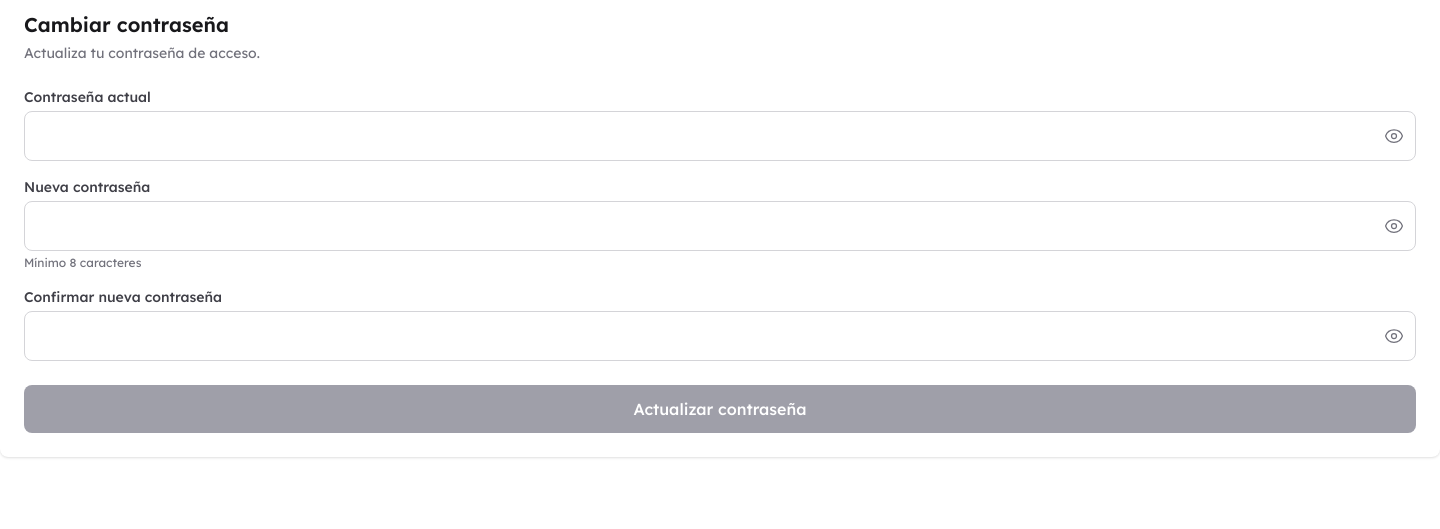
Test: SecurityPage › shows error when newPassword !== confirmPassword
In the password field labelled "Contraseña actual": (720, 136) [24, 111, 1416, 161], type "oldpass123"
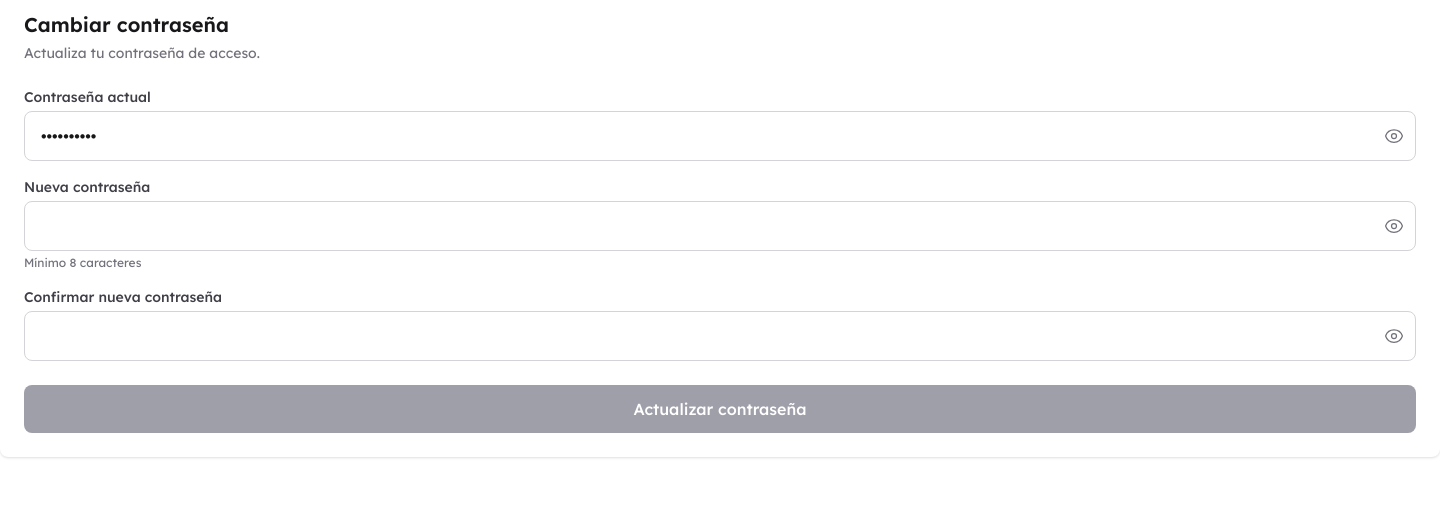
In the password field labelled "Nueva contraseña": (720, 226) [24, 201, 1416, 251], type "newpass123"
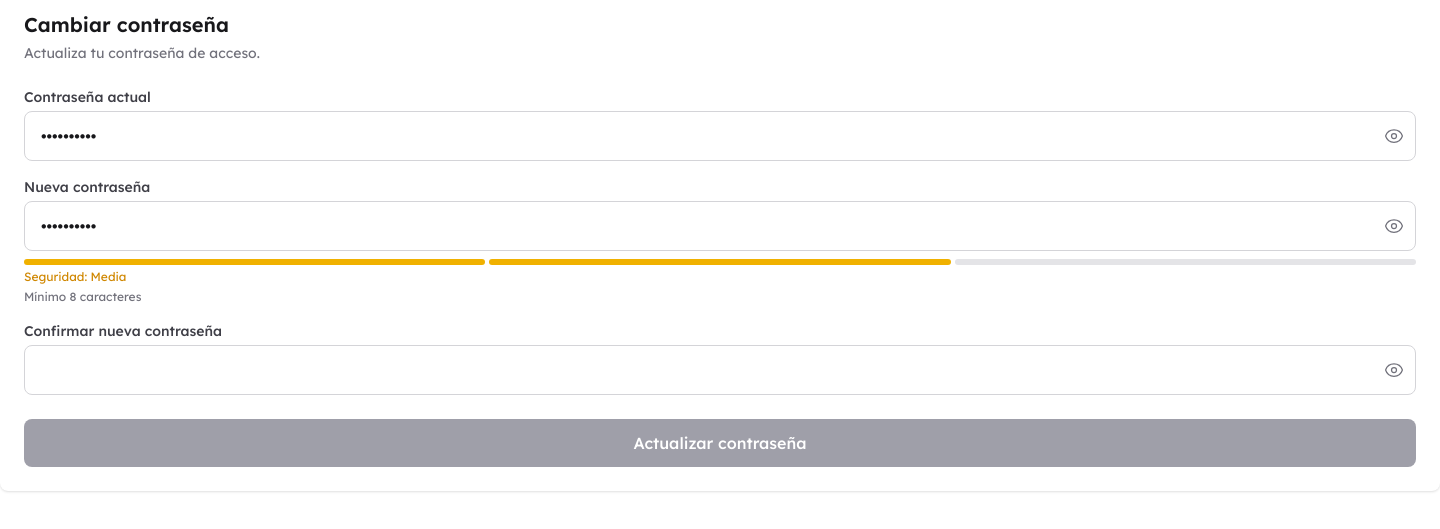
In the password field labelled "Confirmar nueva contraseña": (720, 370) [24, 345, 1416, 395], type "different"
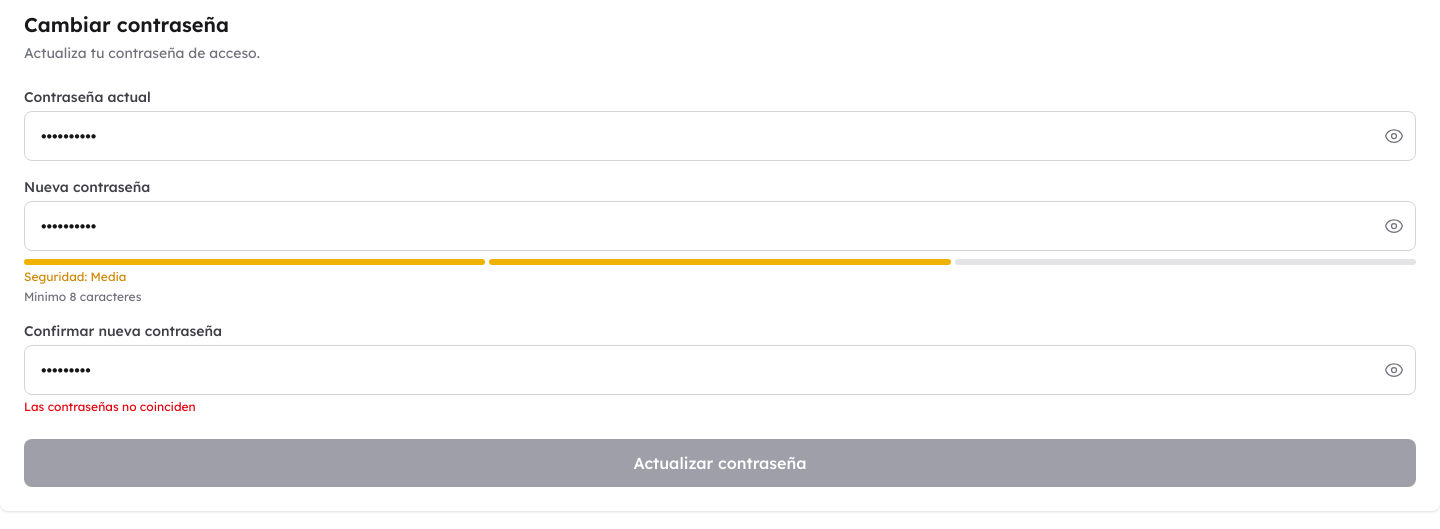
Now the text "Las contraseñas no coinciden" is shown, box [24, 399, 196, 414]
